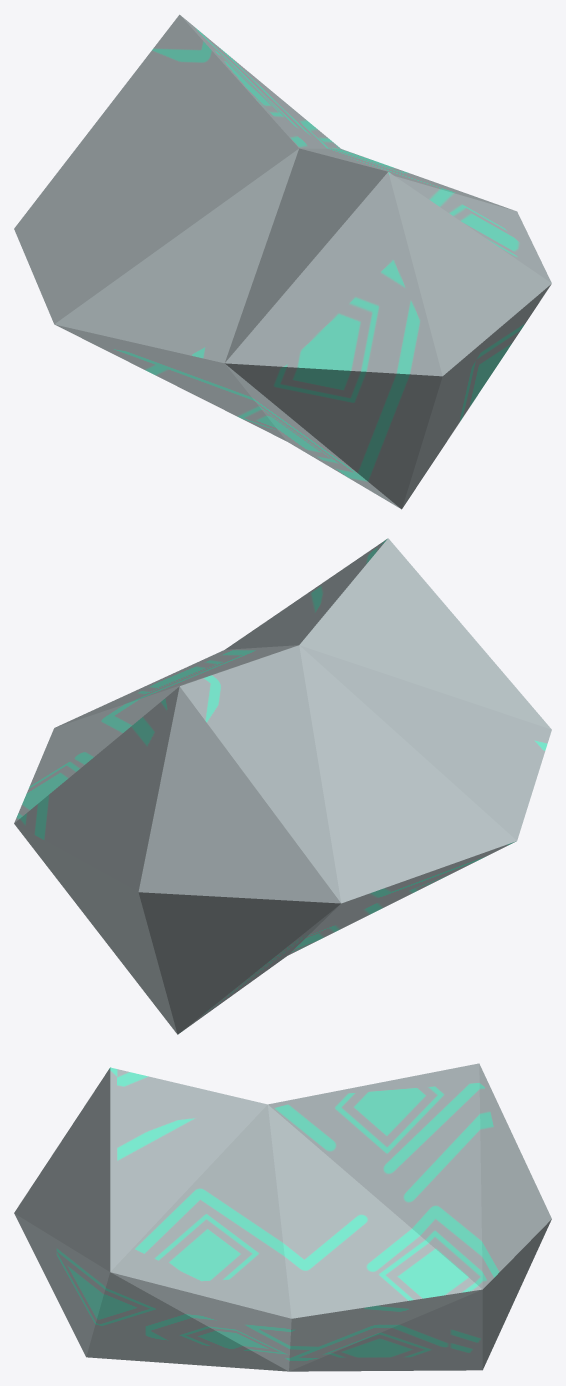
The model's file is Small stone_totem.fbx.
The picture shows the model from 3 angles, top to bottom: view 1: azimuth 30°, elevation 25°; view 2: azimuth 150°, elevation 25°; view 3: azimuth 270°, elevation 25°; orthographic projection. The views are drawn at different scales.
Visible parts, largest first — view 1: Small stone_totem; view 2: Small stone_totem; view 3: Small stone_totem.
Boxes of the visible parts, <box> form: Small stone_totem: <box>14,14,551,509</box>; Small stone_totem: <box>14,538,551,1034</box>; Small stone_totem: <box>14,1063,551,1371</box>.
Bounding box in the file's own units: 200 × 144 × 227.
